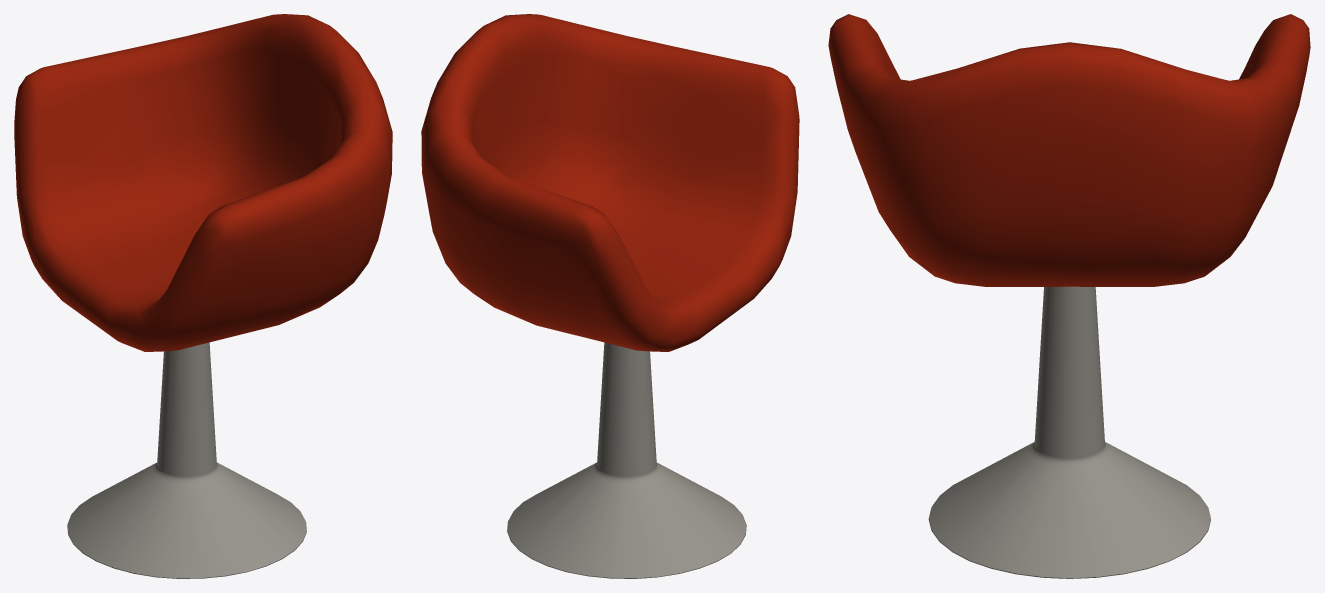
File: chair_09_red.fbx
3 renders of one model, left to right at view 1: azimuth 30°, elevation 25°; view 2: azimuth 150°, elevation 25°; view 3: azimuth 270°, elevation 25°, orthographic. The views are drawn at different scales.
Visible parts, largest first — view 1: chair_09_red; view 2: chair_09_red; view 3: chair_09_red.
Boxes of the visible parts, left/top/right/bottom form: chair_09_red: left=14, top=14, right=392, bottom=578; chair_09_red: left=421, top=14, right=799, bottom=578; chair_09_red: left=828, top=14, right=1310, bottom=578.
Bounding box in the file's own units: 53.94 × 92.73 × 73.24.
Materials: 2 (2 with a texture image).
